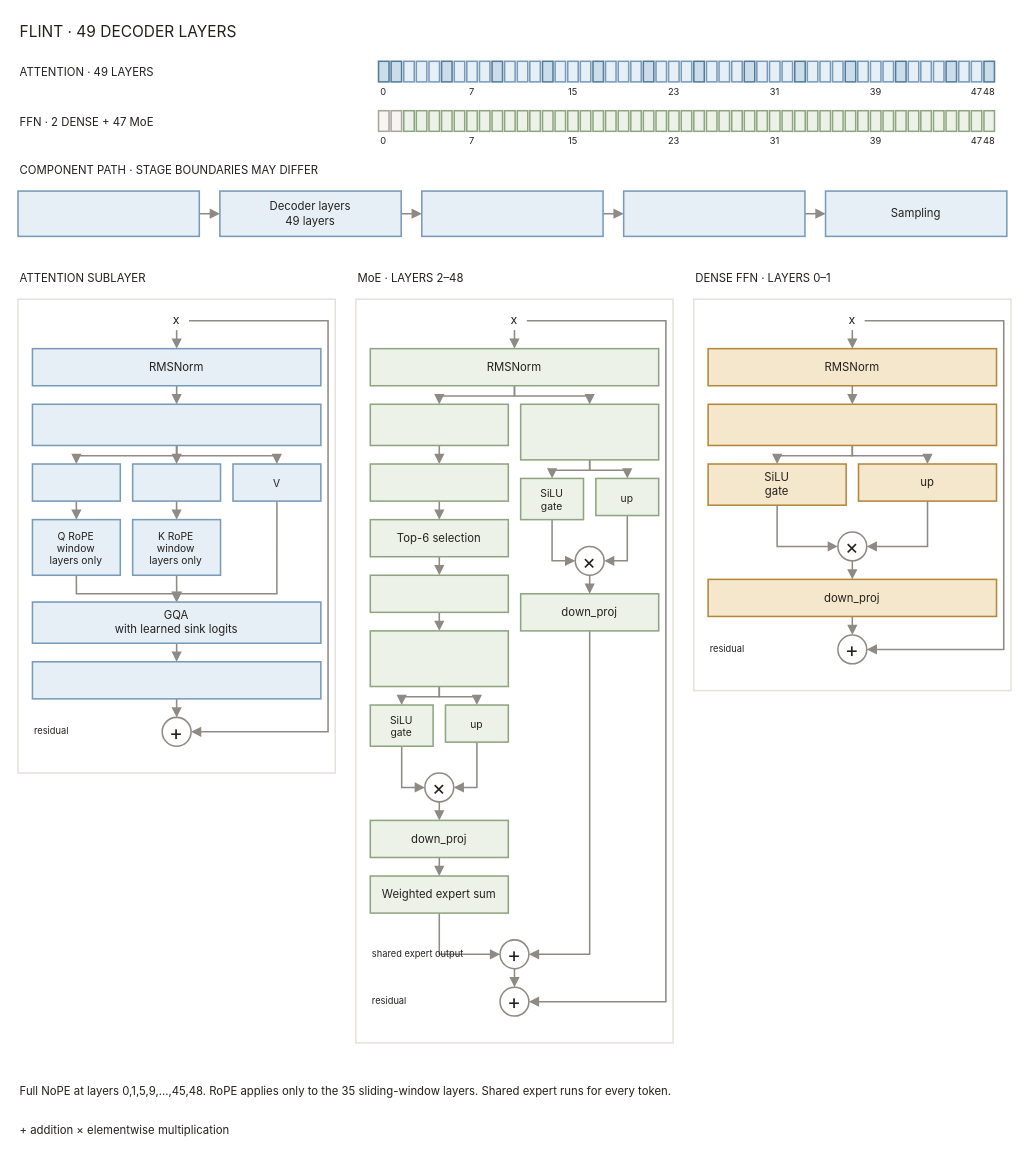
This 1031x1157 diagram has some shape labels left out. The centre of each missing label's shape, as x and y in pixels:
Final RMSNorm: point (512, 213)
gate_up_proj fused linear · d_ff 1,024: point (589, 431)
gate_up_proj fused linear · d_ff 512: point (439, 658)
gate_up_proj fused linear · d_ff 6,144: point (852, 424)
K RMSNorm: point (176, 482)
o_proj: point (176, 680)
Q RMSNorm: point (76, 482)
QKV projection Q 32 × 128 · KV 4 × 128: point (176, 424)
Renormalize weights: point (439, 593)
Router linear 2,048 → 256: point (439, 424)
Sigmoid: point (439, 482)
Token embedding: point (108, 213)
Untied LM head: point (713, 213)
